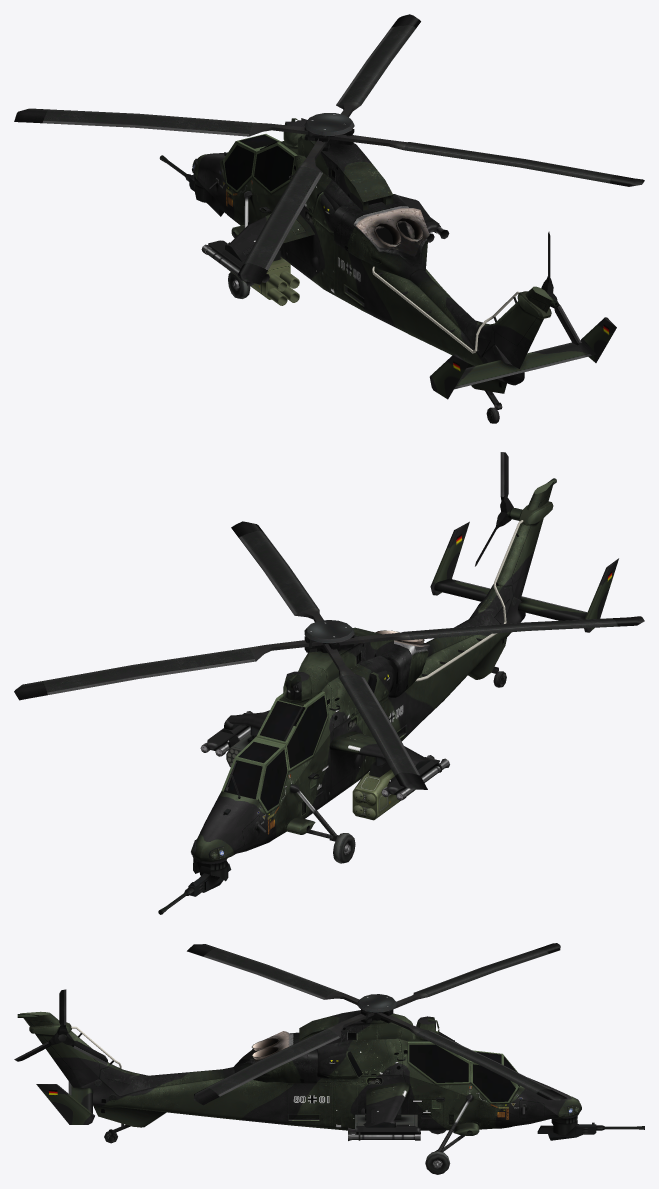
The model's file is eurocopter_tiger_attack_helicopter.glb.
The picture shows the model from 3 angles, top to bottom: view 1: azimuth 30°, elevation 25°; view 2: azimuth 150°, elevation 25°; view 3: azimuth 270°, elevation 25°; orthographic projection. The views are drawn at different scales.
Visible parts, largest first — view 1: Object_3, Object_2; view 2: Object_3, Object_2; view 3: Object_3, Object_2.
Boxes of the visible parts, bbox=[...] form: Object_3: bbox=[14, 14, 644, 423]; Object_2: bbox=[224, 134, 322, 214]; Object_3: bbox=[14, 452, 644, 914]; Object_2: bbox=[224, 674, 376, 810]; Object_3: bbox=[14, 943, 644, 1174]; Object_2: bbox=[347, 1034, 519, 1101].
Bounding box in the file's own units: 513 × 259 × 850.
Materials: 2 (2 with a texture image).
